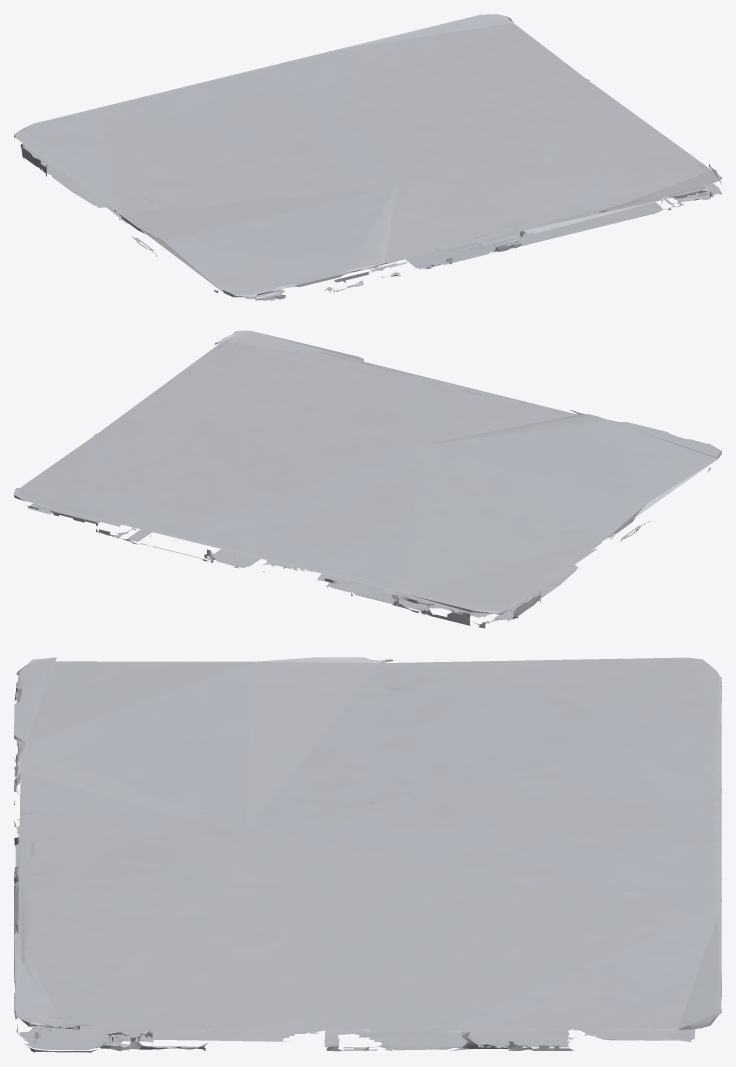
The model's file is w51laptop.glb.
3 renders of one model, top to bottom at view 1: azimuth 30°, elevation 25°; view 2: azimuth 150°, elevation 25°; view 3: azimuth 270°, elevation 25°, orthographic. The views are drawn at different scales.
Visible parts, largest first — view 1: output_unwrapped; view 2: output_unwrapped; view 3: output_unwrapped.
Part boxes in pixels (box(x1,y1,x2,y2)): output_unwrapped: box(14, 14, 721, 300); output_unwrapped: box(14, 330, 721, 628); output_unwrapped: box(14, 657, 721, 1052).
Bounding box in the file's own units: 0.32 × 0.0118 × 0.2595.
Materials: 1 (1 with a texture image).
